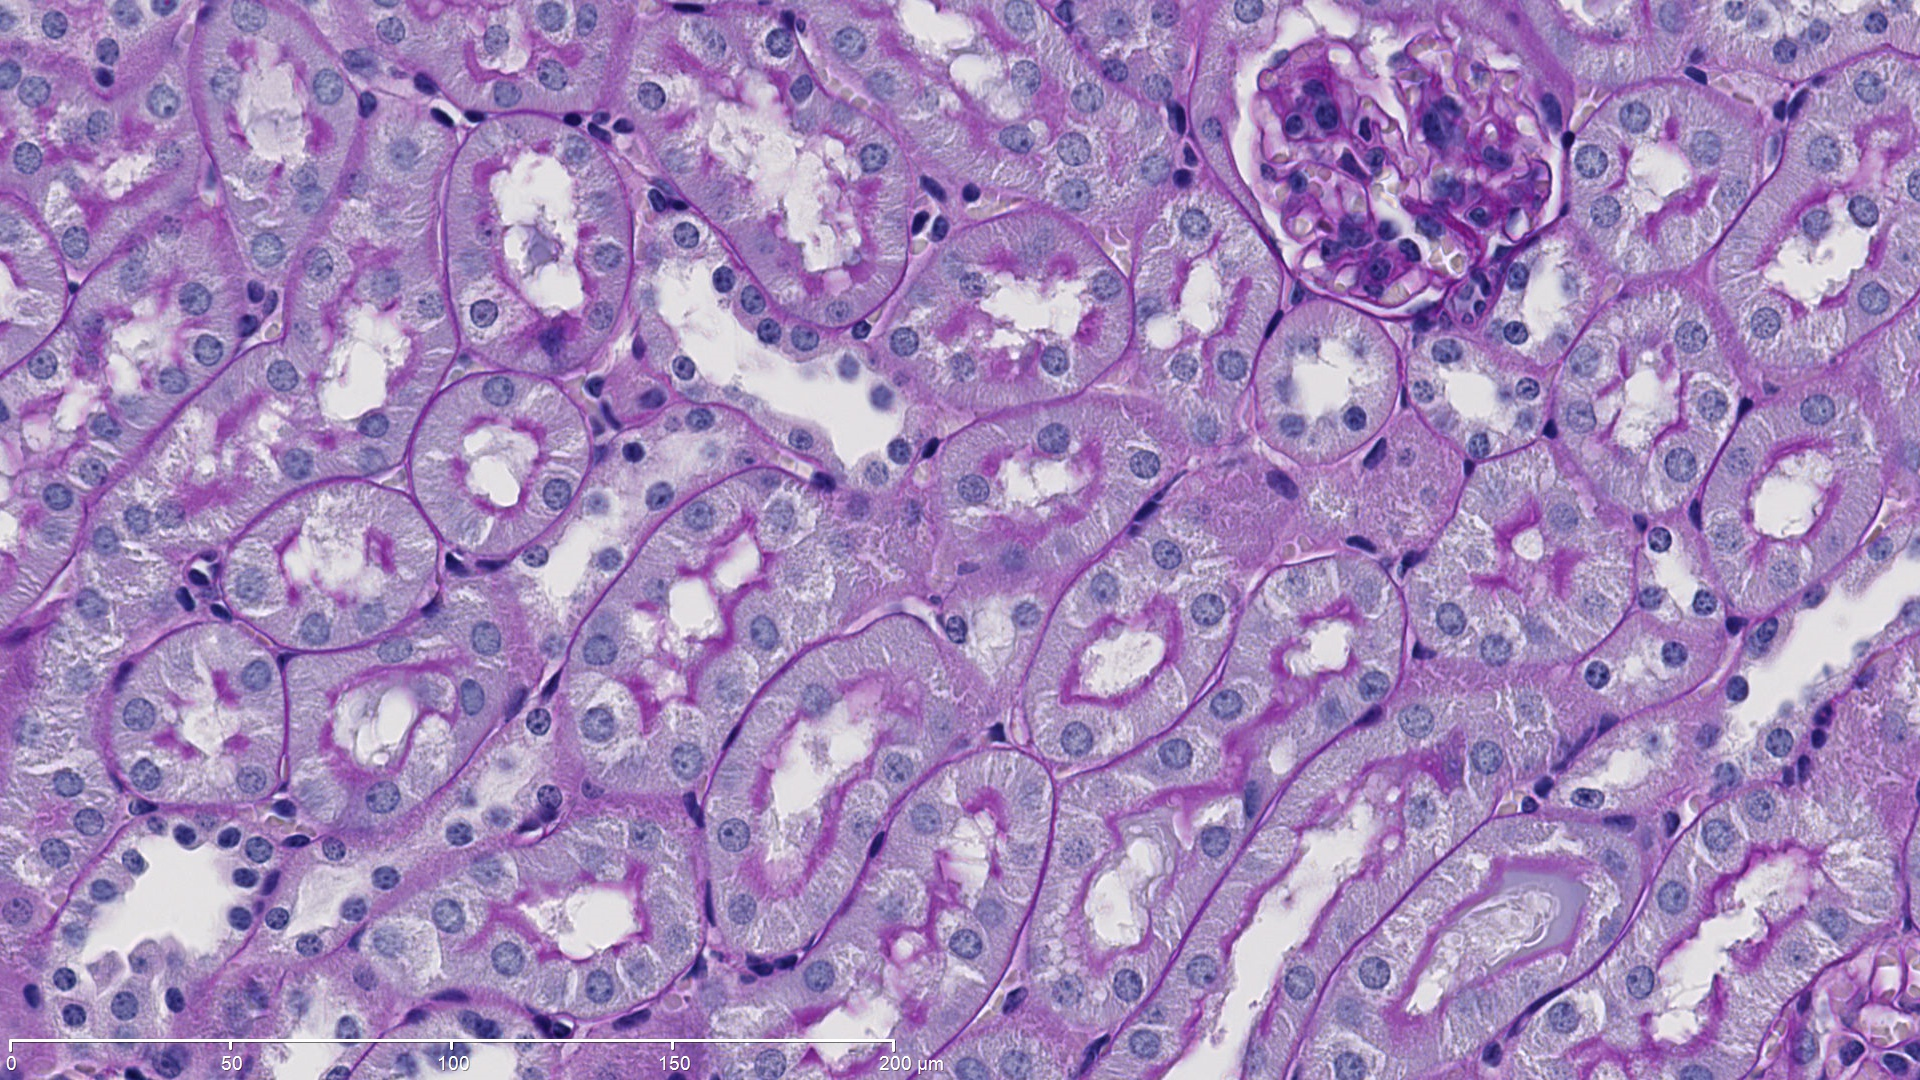Glomeruli: (1246, 29, 1584, 324)
